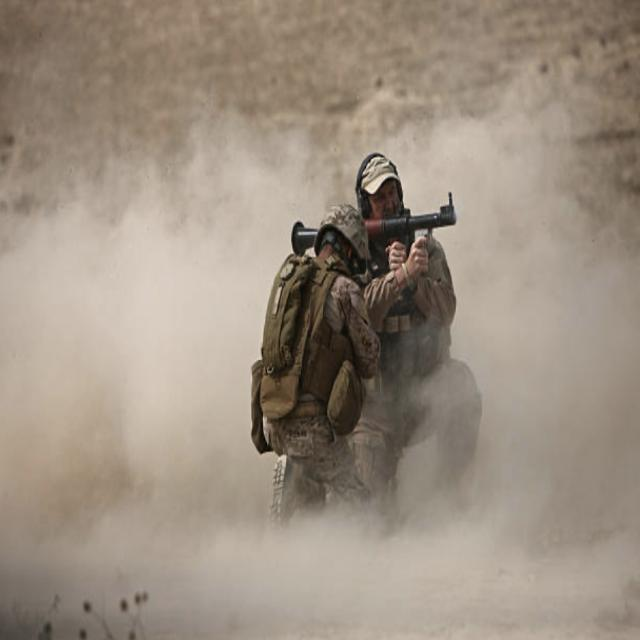bazooka: (289, 197, 459, 262)
